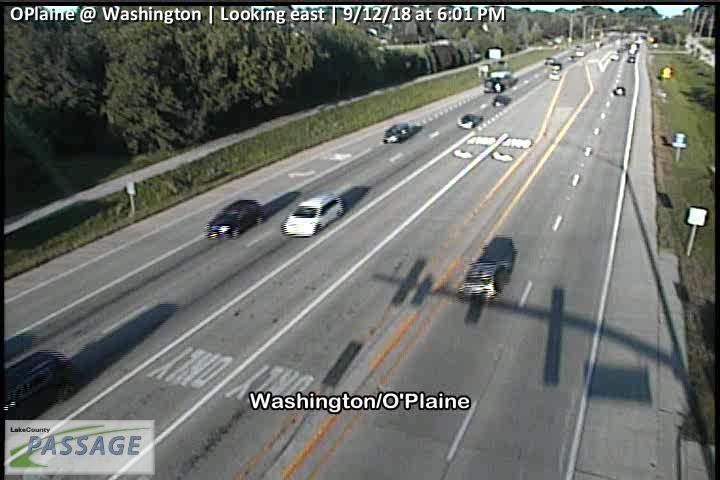SUV: (2, 350, 82, 435), (282, 194, 344, 236), (205, 199, 264, 239)
Sedan: (383, 123, 409, 144), (458, 113, 484, 129), (493, 96, 510, 108)
Truck: (460, 236, 515, 301)
